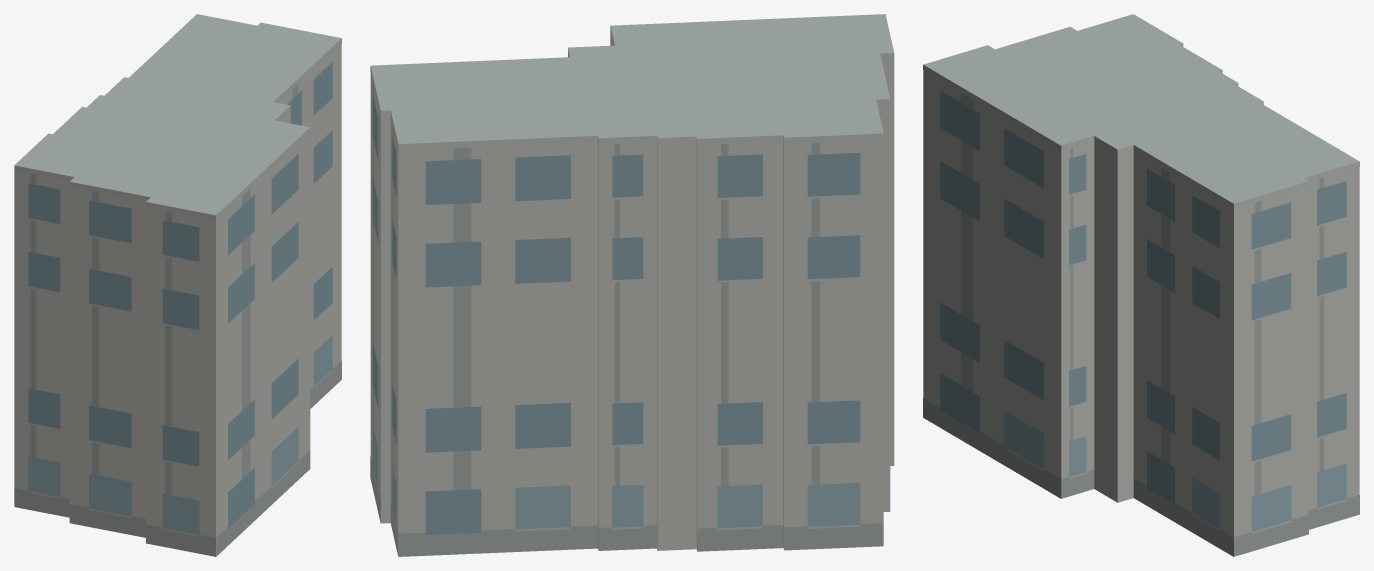
File: survey-upis-32987040.glb
3 renders of one model, left to right at view 1: azimuth 30°, elevation 25°; view 2: azimuth 150°, elevation 25°; view 3: azimuth 270°, elevation 25°, orthographic. The views are drawn at different scales.
Visible parts, largest first — view 1: survey-upis-32987040.tmp; view 2: survey-upis-32987040.tmp; view 3: survey-upis-32987040.tmp.
Boxes of the visible parts, x1,y1,x2,y2 form: survey-upis-32987040.tmp: (14,14,341,556); survey-upis-32987040.tmp: (370,14,894,556); survey-upis-32987040.tmp: (923,14,1359,556).
Bounding box in the file's own units: 18.33 × 15.9 × 17.83.
